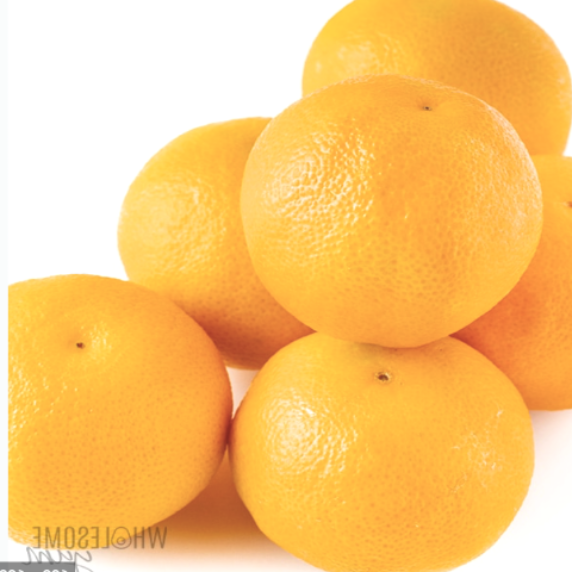orange: (183, 321, 551, 570), (220, 77, 555, 348), (1, 230, 238, 549)
